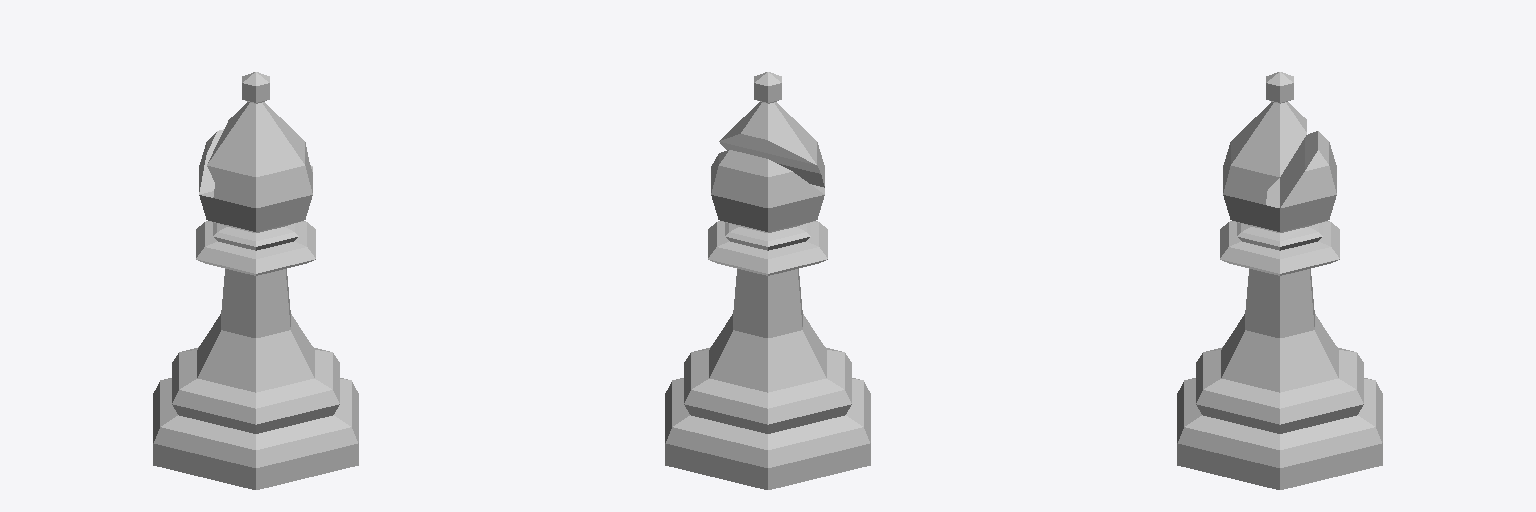
Rendered from alfilB.obj.
3 renders of one model, left to right at view 1: azimuth 30°, elevation 25°; view 2: azimuth 150°, elevation 25°; view 3: azimuth 270°, elevation 25°, orthographic.
Parts seen in each view (by area): view 1: polySurface18; view 2: polySurface18; view 3: polySurface18.
Part boxes in pixels (x1,y1,x2,y2): polySurface18: (153, 72, 358, 489); polySurface18: (665, 72, 870, 489); polySurface18: (1177, 72, 1382, 489).
Size of the model in its own units: 0.8763 by 1.51 by 0.7589.